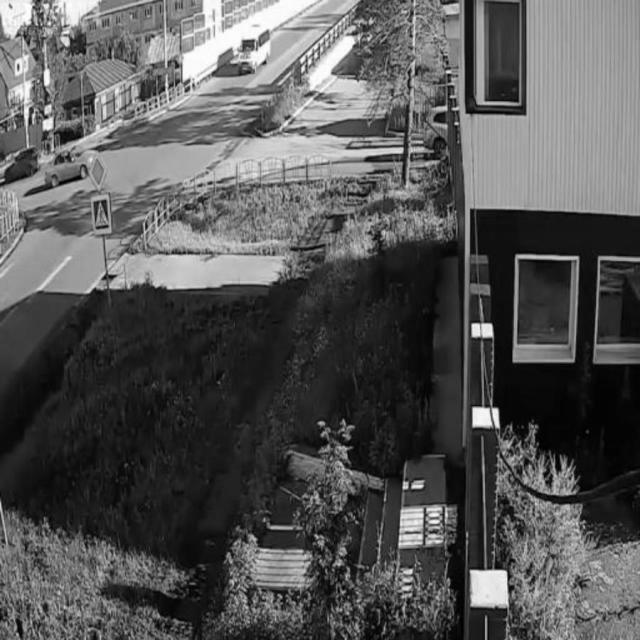vehicle: (42, 146, 98, 186), (238, 19, 273, 70)
